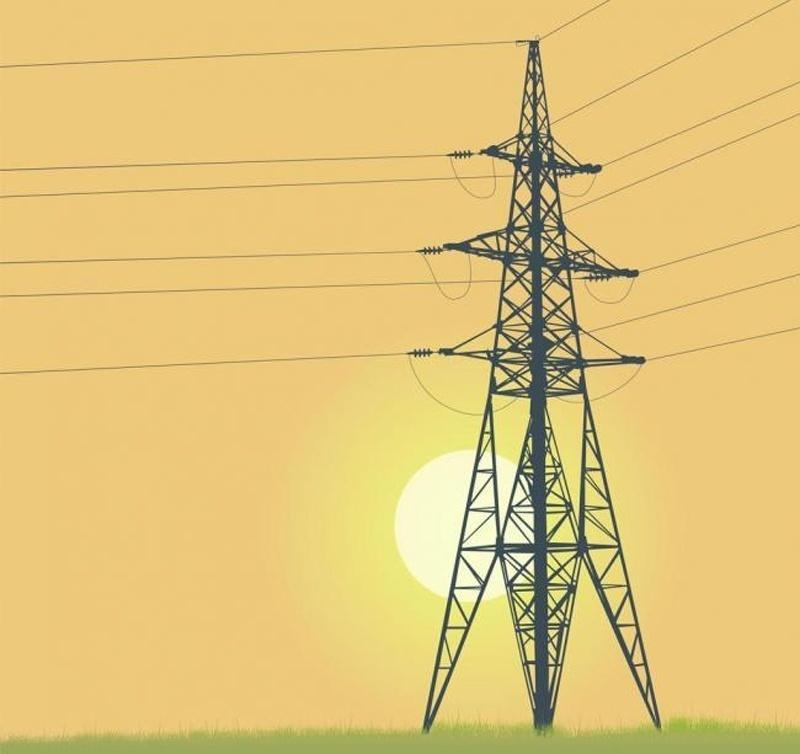power_tower: (411, 36, 663, 733)
